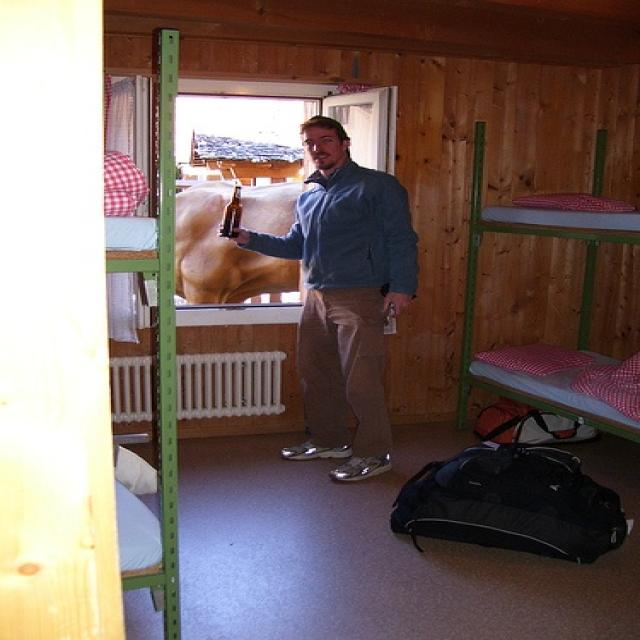bottle: (217, 186, 246, 240)
cow: (176, 180, 302, 304)
